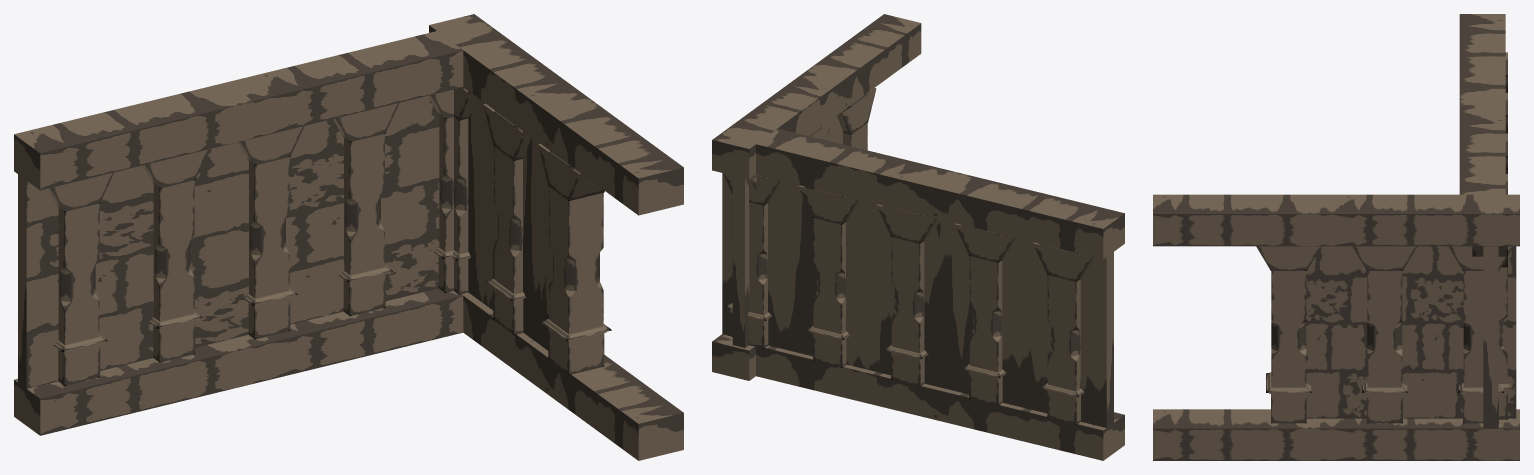
Rendered from side_facade.fbx.
3 views of the same model, side by side, from view 1: azimuth 30°, elevation 25°; view 2: azimuth 150°, elevation 25°; view 3: azimuth 270°, elevation 25° (orthographic). The views are drawn at different scales.
Visible parts, largest first — view 1: b.026, collum_vault.008, b.025, b.029, collum_vault.009, b.027, b.030, b.028; view 2: b.026, collum_vault.008, b.025, b.029, b.027, b.028, collum_vault.009, b.030; view 3: b.028, b.027, collum_vault.009, b.030, b.025, b.026, collum_vault.008.
Part boxes in pixels (x1=…): b.026: x1=18, y1=96, x2=439, y2=388; collum_vault.008: x1=47, y1=89, x2=453, y2=385; b.025: x1=14, y1=31, x2=463, y2=190; b.029: x1=14, y1=288, x2=463, y2=435; collum_vault.009: x1=452, y1=87, x2=611, y2=374; b.027: x1=429, y1=14, x2=683, y2=215; b.030: x1=461, y1=292, x2=683, y2=460; b.028: x1=468, y1=91, x2=552, y2=350; b.026: x1=722, y1=173, x2=1113, y2=428; collum_vault.008: x1=723, y1=173, x2=1093, y2=424; b.025: x1=756, y1=128, x2=1124, y2=259; b.029: x1=756, y1=345, x2=1124, y2=460; b.027: x1=712, y1=14, x2=921, y2=179; b.028: x1=732, y1=111, x2=843, y2=347; collum_vault.009: x1=724, y1=88, x2=876, y2=336; b.030: x1=712, y1=334, x2=755, y2=380; b.028: x1=1306, y1=246, x2=1516, y2=418; b.027: x1=1153, y1=194, x2=1519, y2=246; collum_vault.009: x1=1256, y1=246, x2=1513, y2=423; b.030: x1=1153, y1=409, x2=1519, y2=460; b.025: x1=1459, y1=14, x2=1505, y2=194; b.026: x1=1483, y1=246, x2=1498, y2=428; collum_vault.008: x1=1472, y1=52, x2=1512, y2=419.
Bounding box in the file's own units: 4232 × 2438 × 3280.
